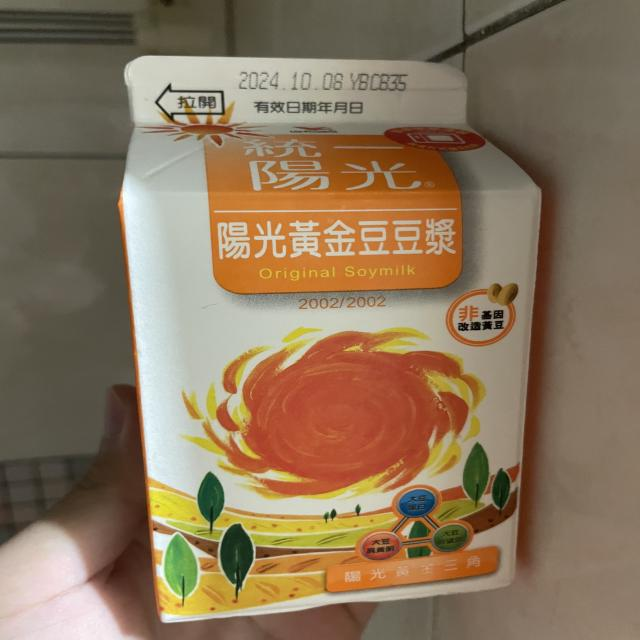TongYi_SoyMilk: (112, 48, 558, 627)
